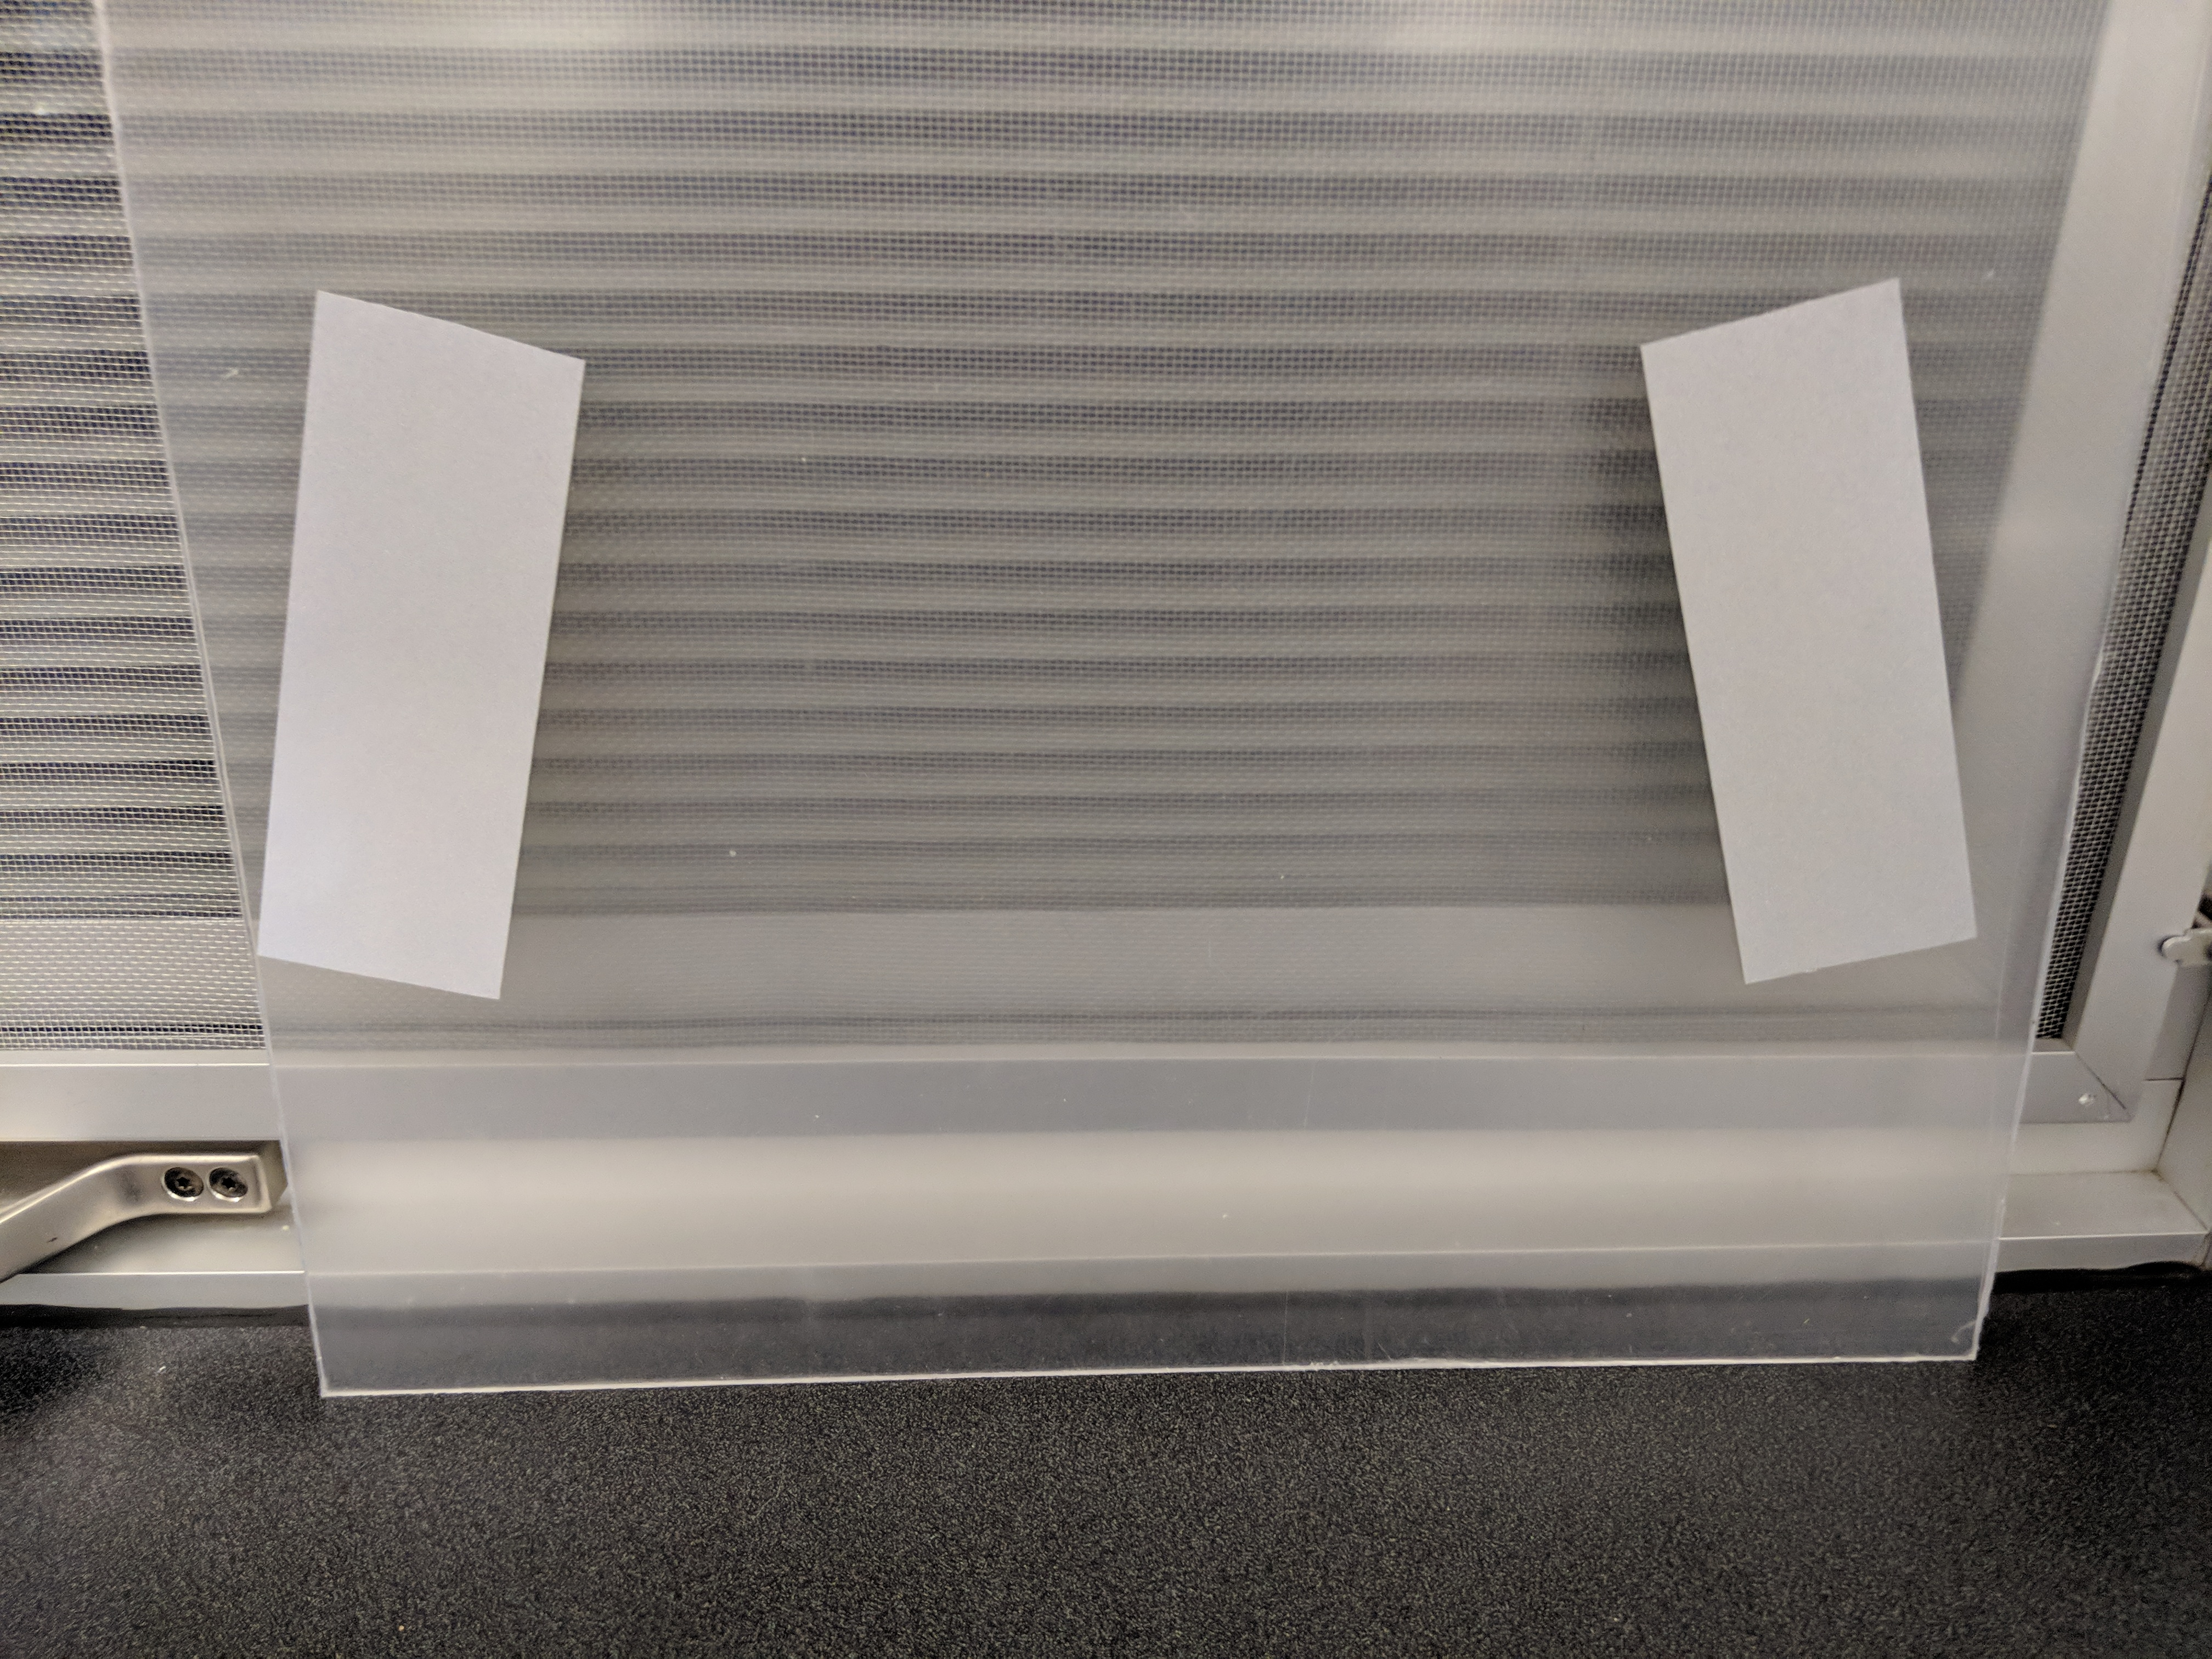vision_target: (251, 277, 2017, 1004)
